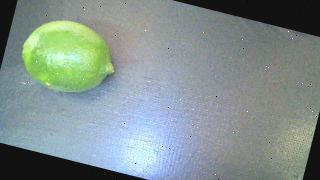EXPORTACION: (15, 11, 124, 103)
